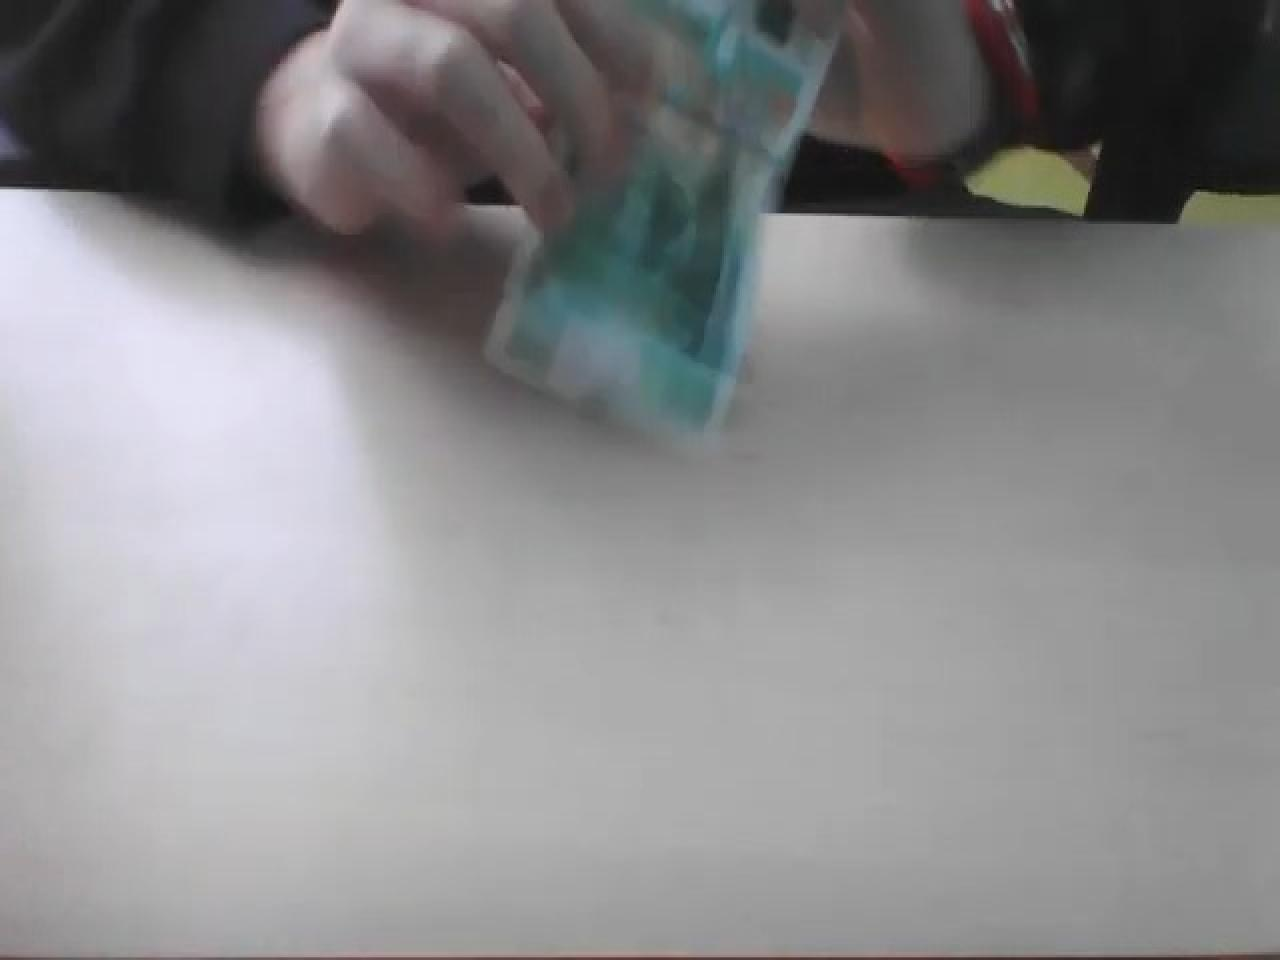100leva: (476, 0, 838, 445)
